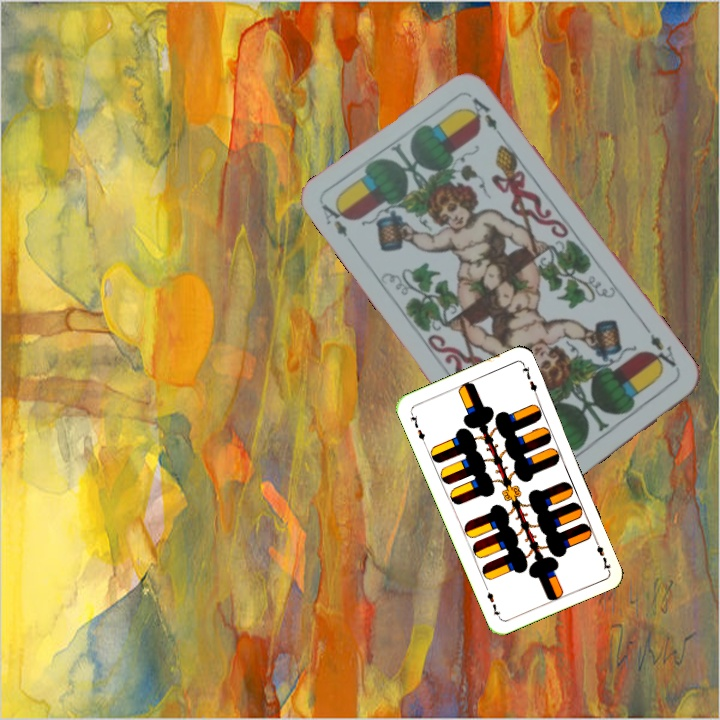E7: (590, 534, 613, 573), (406, 408, 428, 447)
EA: (317, 197, 359, 251), (641, 323, 679, 375)
